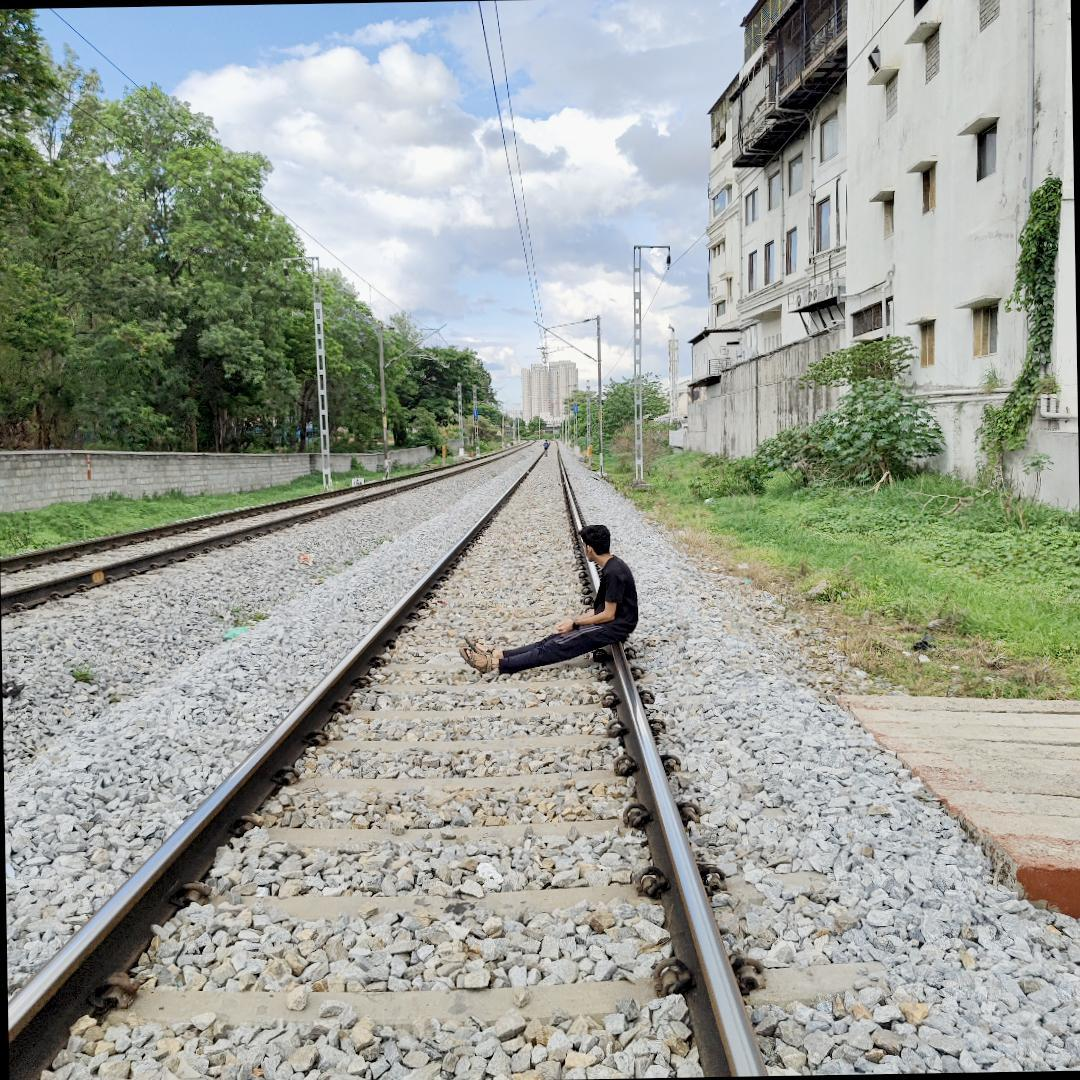sitting: (441, 520, 655, 682)
